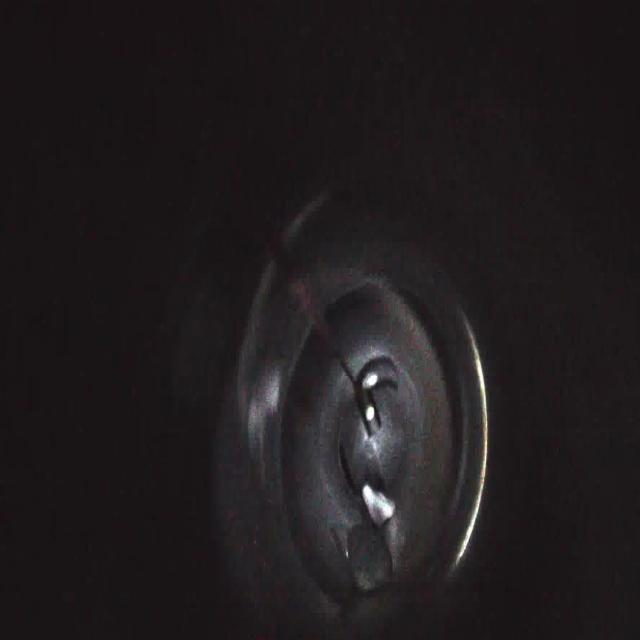impurity: (346, 522, 398, 600), (360, 483, 400, 523)
